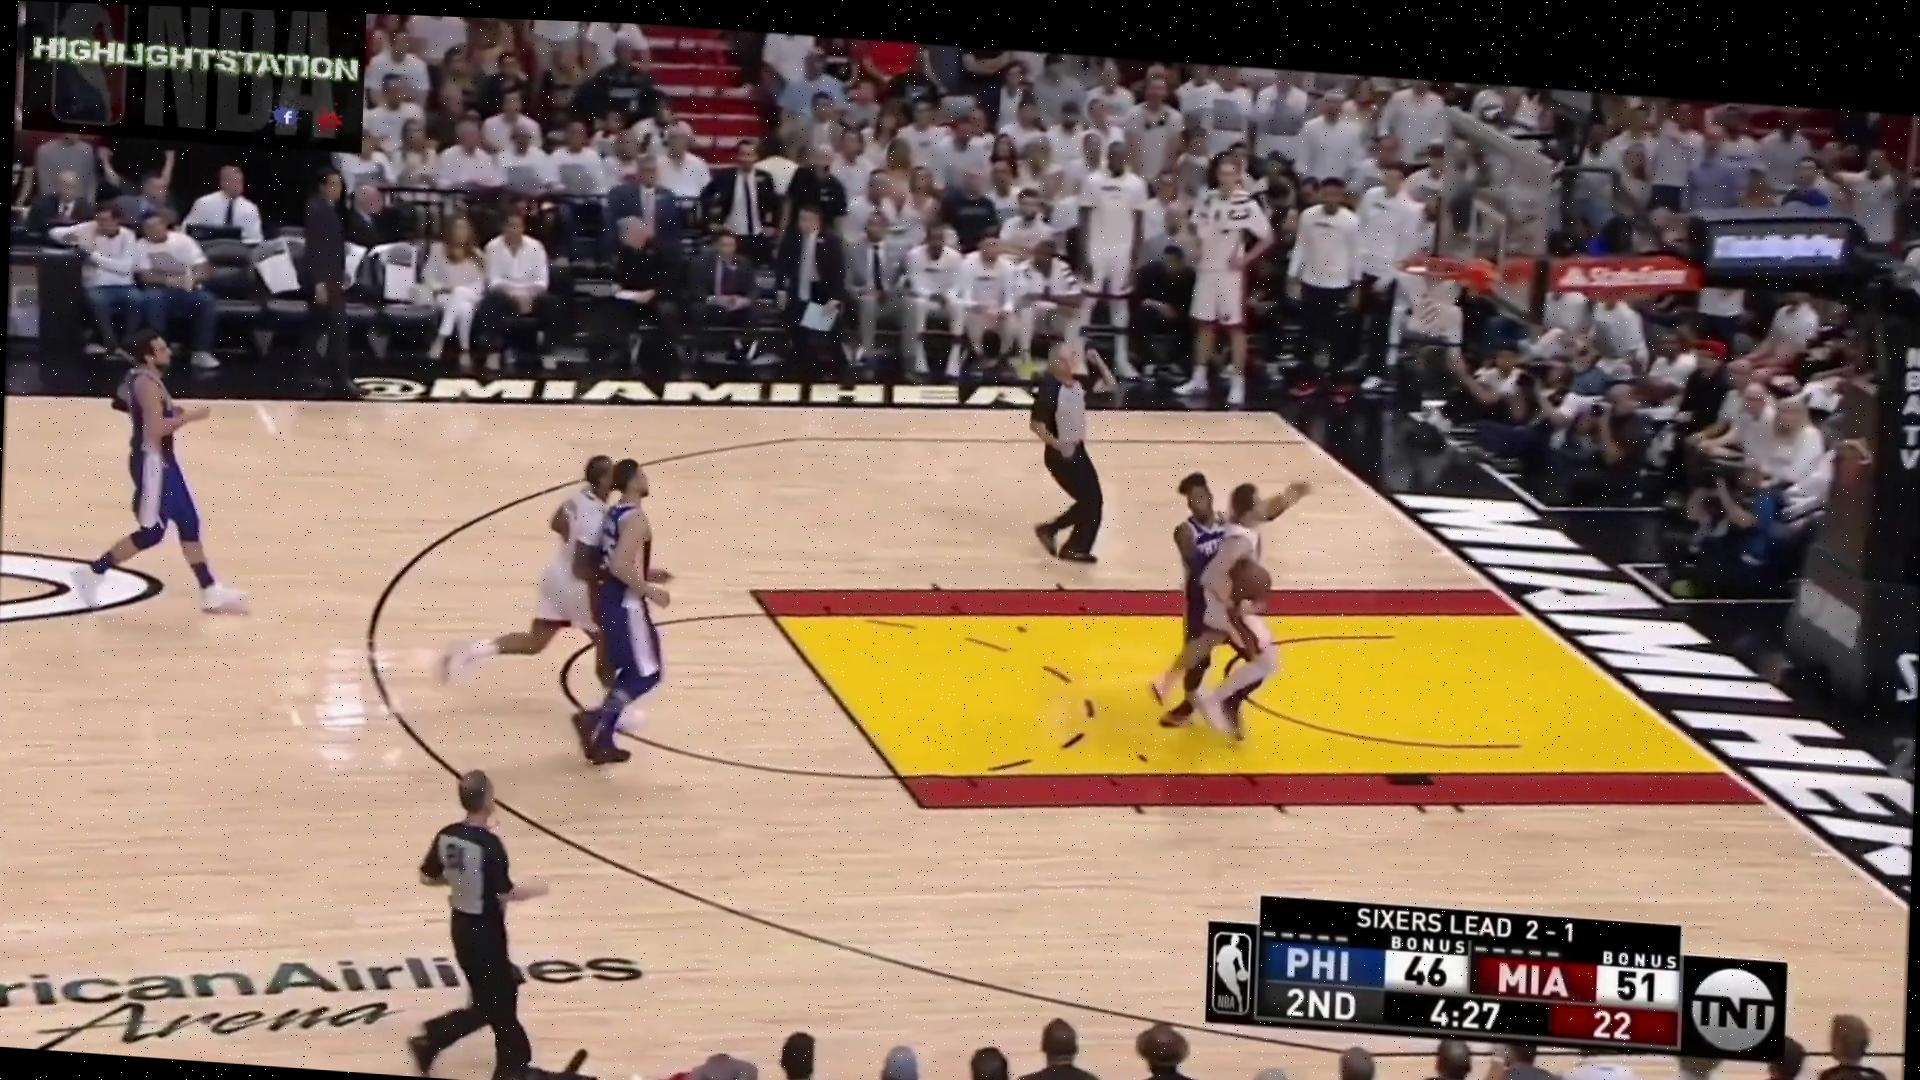foul: (1142, 463, 1333, 749)
